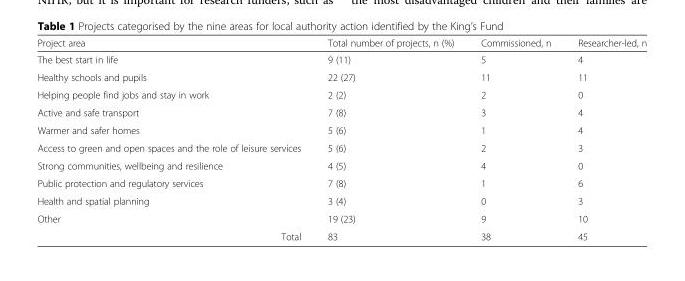table: (36, 36, 645, 241)
table column: (36, 36, 313, 241), (313, 36, 466, 241), (466, 36, 563, 241), (563, 36, 645, 241)
table column header: (36, 36, 645, 50)
table row: (36, 67, 645, 85), (36, 85, 645, 103), (36, 103, 645, 121), (36, 138, 645, 156), (36, 156, 645, 174), (36, 191, 645, 209), (36, 209, 645, 227), (36, 50, 645, 67), (36, 121, 645, 138), (36, 174, 645, 191), (36, 36, 645, 50), (36, 227, 645, 241)
